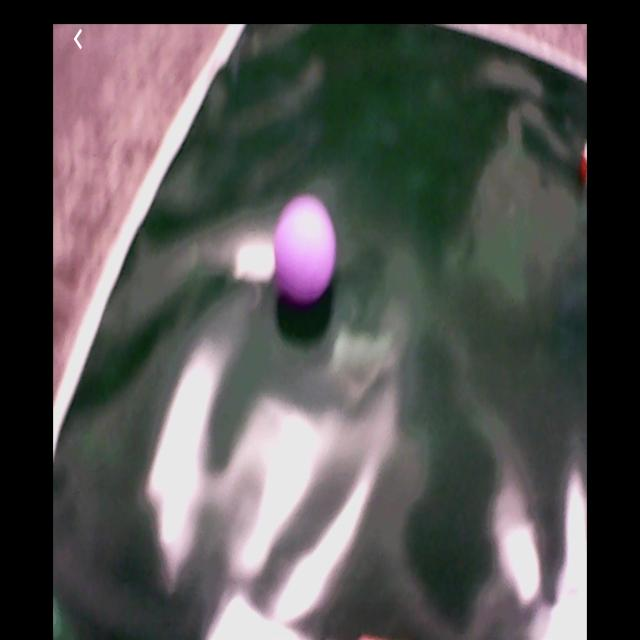ball: (276, 196, 337, 302)
